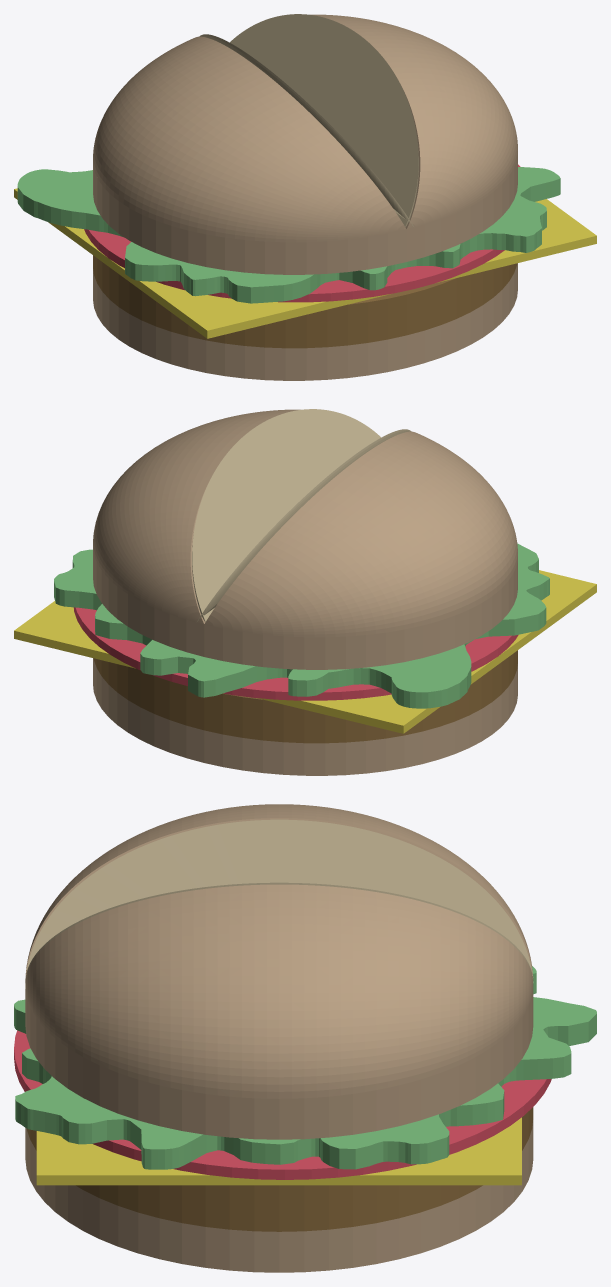
File: Burgers.glb
3 renders of one model, top to bottom at view 1: azimuth 30°, elevation 25°; view 2: azimuth 150°, elevation 25°; view 3: azimuth 270°, elevation 25°, orthographic. The views are drawn at different scales.
Visible parts, largest first — view 1: Mesh_Mesh_head_geo.001_lambert2SG.001; view 2: Mesh_Mesh_head_geo.001_lambert2SG.001; view 3: Mesh_Mesh_head_geo.001_lambert2SG.001.
Part boxes in pixels (left/top/right/bottom): Mesh_Mesh_head_geo.001_lambert2SG.001: left=14, top=14, right=596, bottom=380; Mesh_Mesh_head_geo.001_lambert2SG.001: left=14, top=409, right=596, bottom=775; Mesh_Mesh_head_geo.001_lambert2SG.001: left=14, top=804, right=596, bottom=1272.
Size of the model in its own units: 54 by 30.16 by 51.63.
